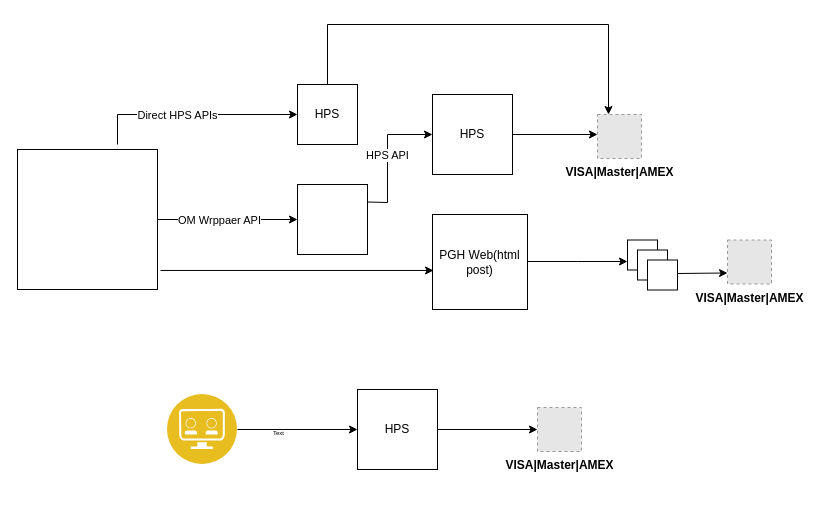
The diagram is 821 pixels wide and 506 high, and some of its shapes have lost their labels. Grey dashed boxes stand in for pictures. The shapes that lost their labels are listed below. From the top down, each one's centre as x and y in pixels, then its label:
the point at 87,219: HLApps(ERP/RMA)
the point at 332,219: OM Wrapper
the point at 662,274: Payment GWs
the point at 202,429: FiServ Portal - Tokenization - What is this?
